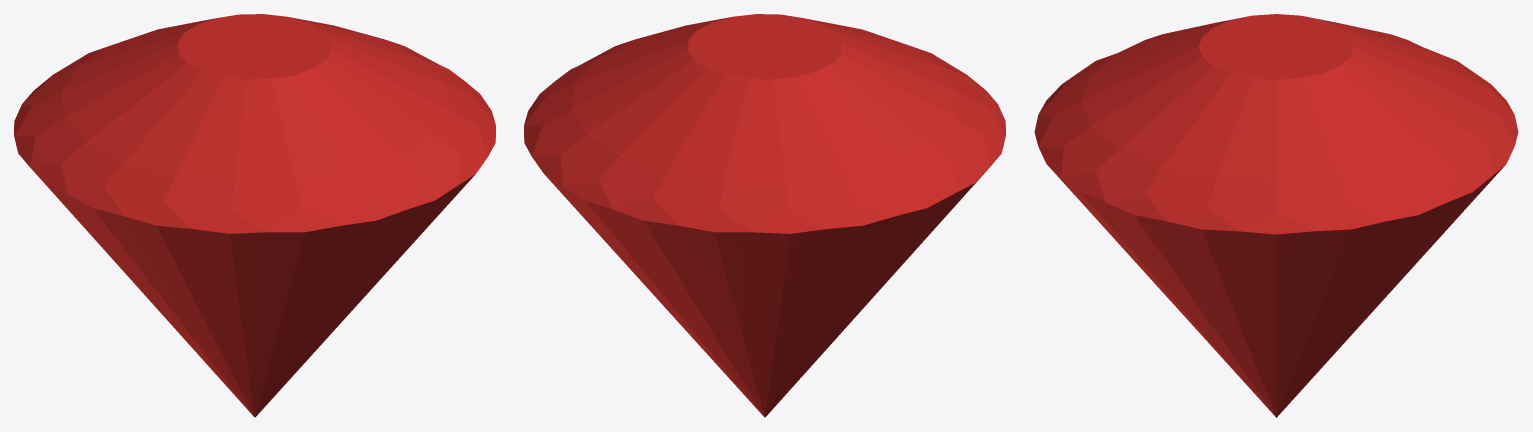
File: Diamond_red.fbx
3 views of the same model, side by side, from view 1: azimuth 30°, elevation 25°; view 2: azimuth 150°, elevation 25°; view 3: azimuth 270°, elevation 25° (orthographic).
Parts seen in each view (by area): view 1: Diamond_red; view 2: Diamond_red; view 3: Diamond_red.
Boxes of the visible parts, x1,y1,x2,y2 form: Diamond_red: (14, 14, 495, 417); Diamond_red: (524, 14, 1005, 417); Diamond_red: (1034, 14, 1518, 417).
Size of the model in its own units: 6.37 by 5.39 by 6.37.
